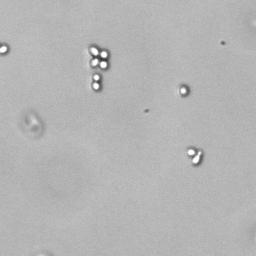budding: (187, 147, 204, 166), (91, 73, 102, 91)
cluster: (86, 44, 113, 71)
individual: (179, 85, 190, 97), (1, 43, 9, 57)
